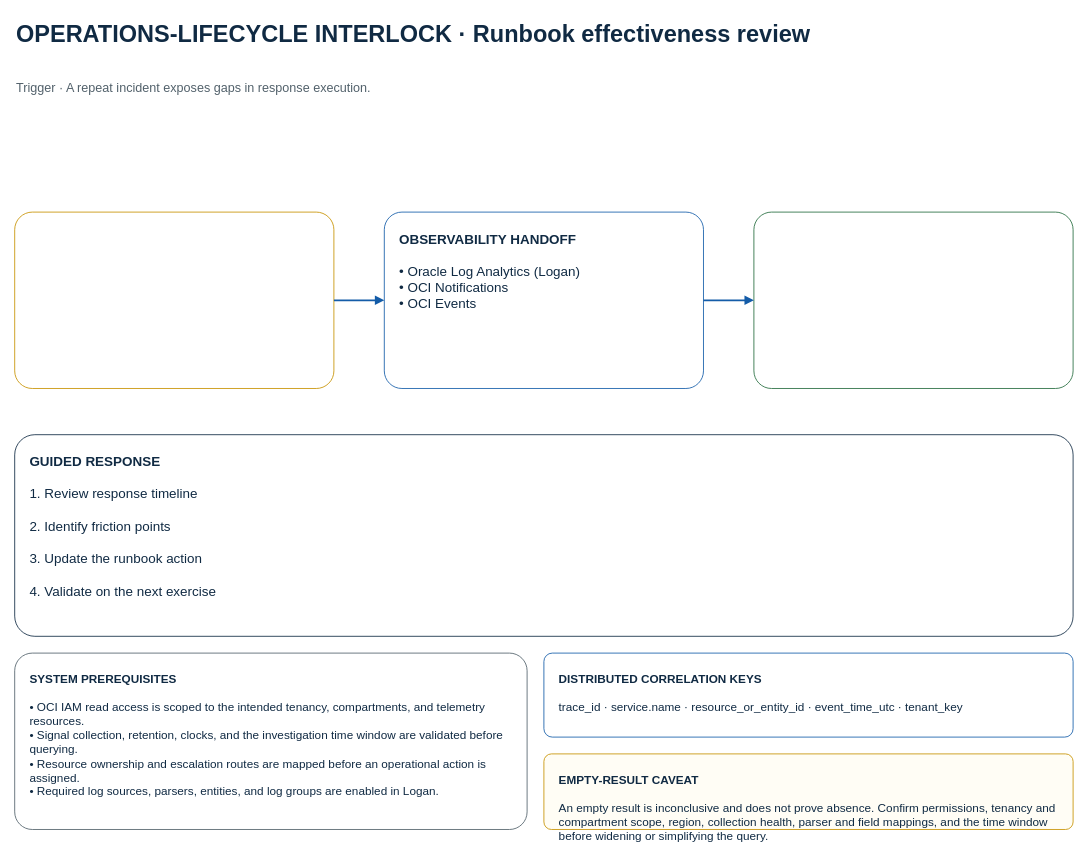
Image size: 1088x858. Some labels were removed from this diagram. Each missing label, with the centre of its shape:
"OPERATIONAL OUTCOME • Improve the response path with measured evidence." goes at point (913, 299).
"SOURCE EVIDENCE • Incident timeline • Runbook steps • Recovery evidence" goes at point (174, 299).
